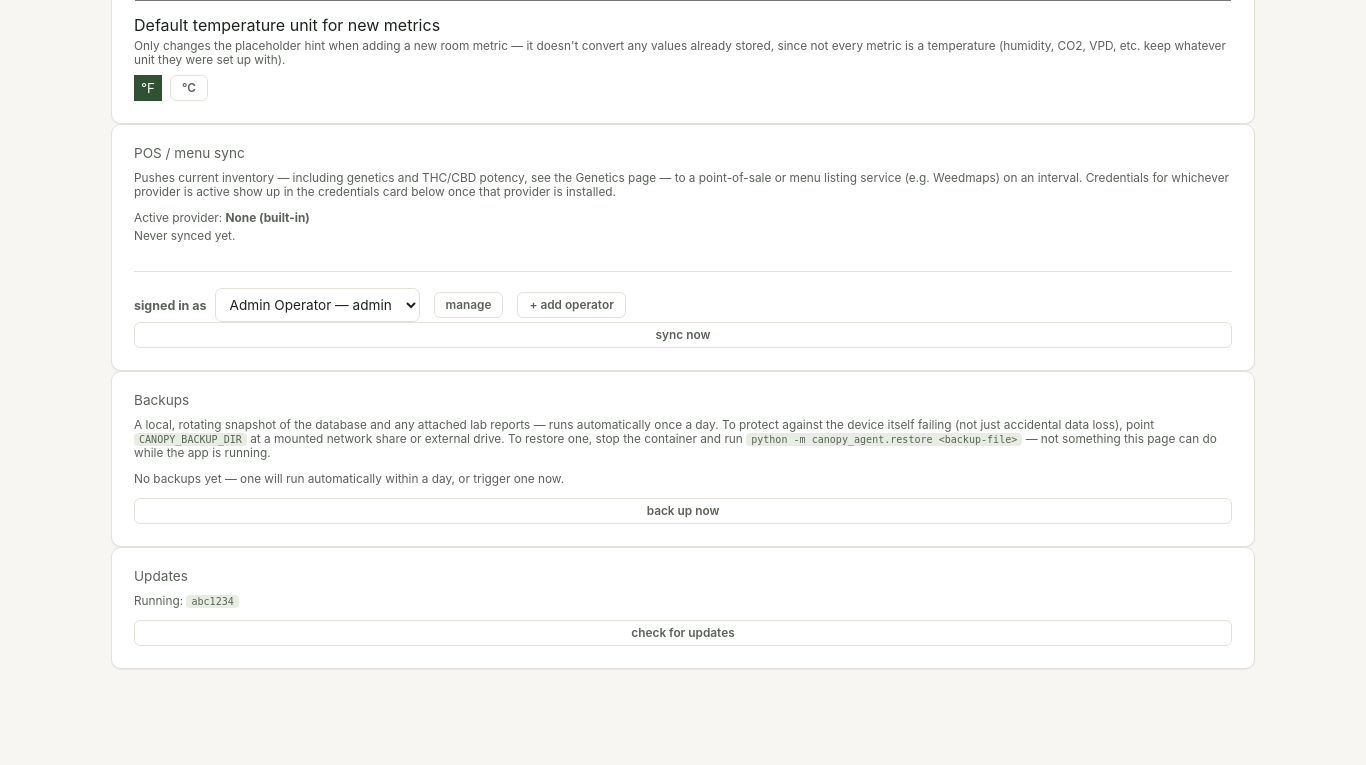
Scenario: Settings › updates › shows how far behind and a link to what changed
(page scrolled)
Expected: the text "abc1234" is shown, left=186, top=595, right=239, bottom=608
Click the button "check for updates": (683, 633) left=134, top=620, right=1232, bottom=646
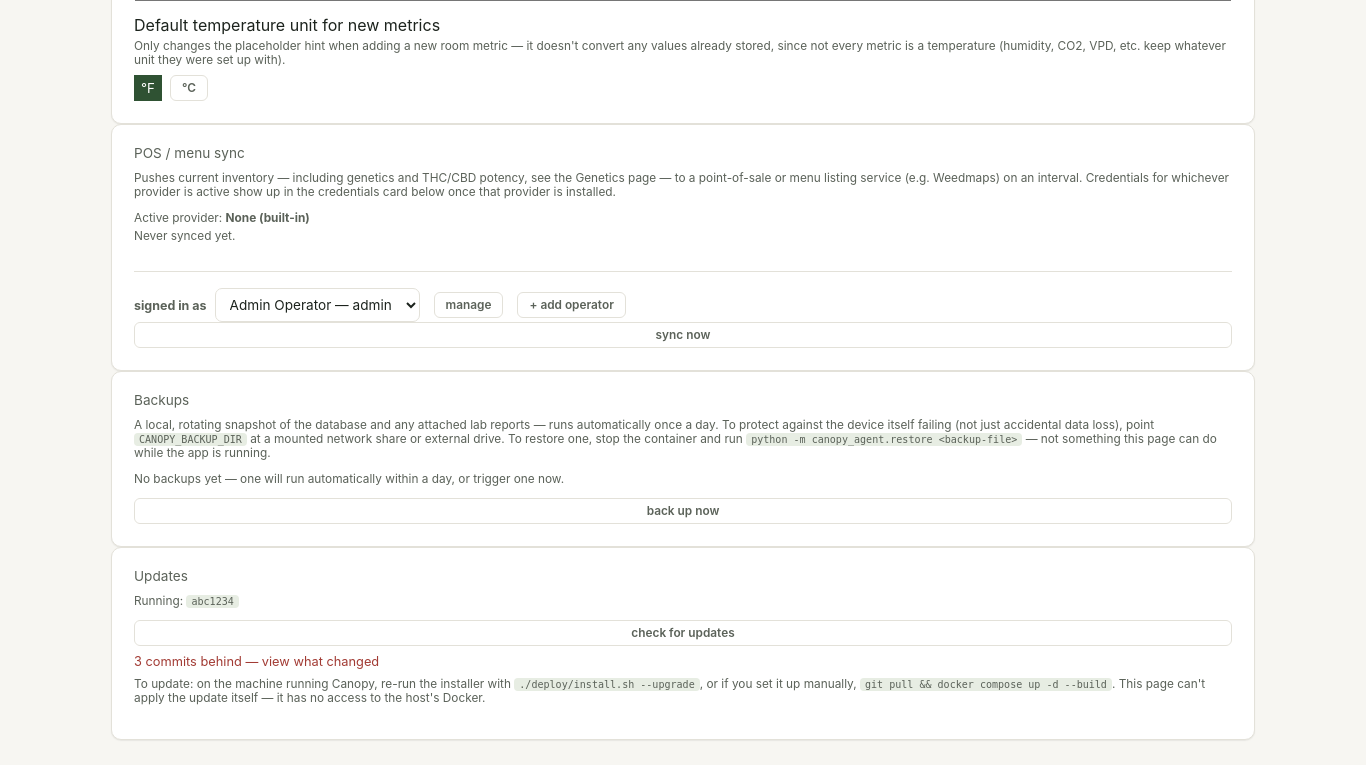
Expected: the text "3 commits behind — view what changed" is shown, left=134, top=654, right=379, bottom=669
Expected: the text "./deploy/install.sh --upgrade" is shown, left=514, top=678, right=700, bottom=691
